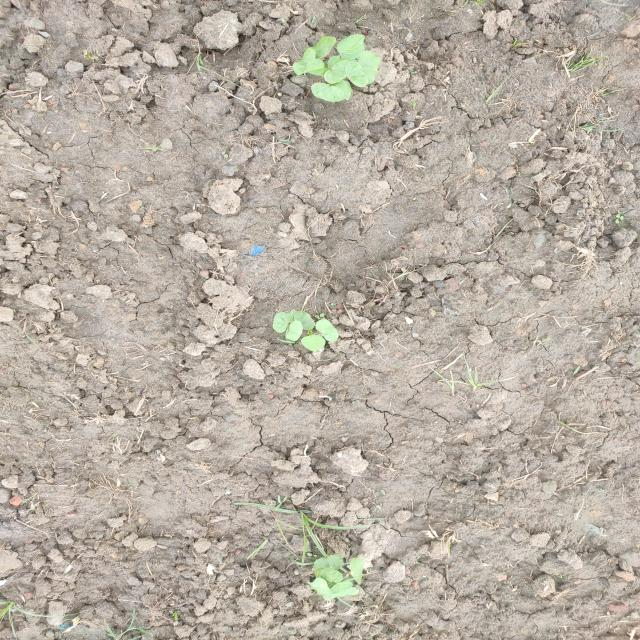seedling_s4: (358, 50, 380, 85), (310, 82, 345, 102), (337, 34, 364, 59), (344, 60, 368, 87), (309, 36, 336, 59), (293, 48, 316, 75), (324, 60, 348, 84), (313, 554, 344, 572), (315, 319, 339, 342), (304, 58, 329, 76), (301, 335, 326, 352), (307, 578, 330, 596), (294, 311, 315, 330), (319, 567, 343, 583), (332, 80, 351, 100), (350, 558, 364, 585), (272, 312, 289, 333), (286, 320, 302, 341), (330, 581, 353, 594), (332, 587, 359, 598), (286, 309, 296, 323), (322, 590, 333, 601)
